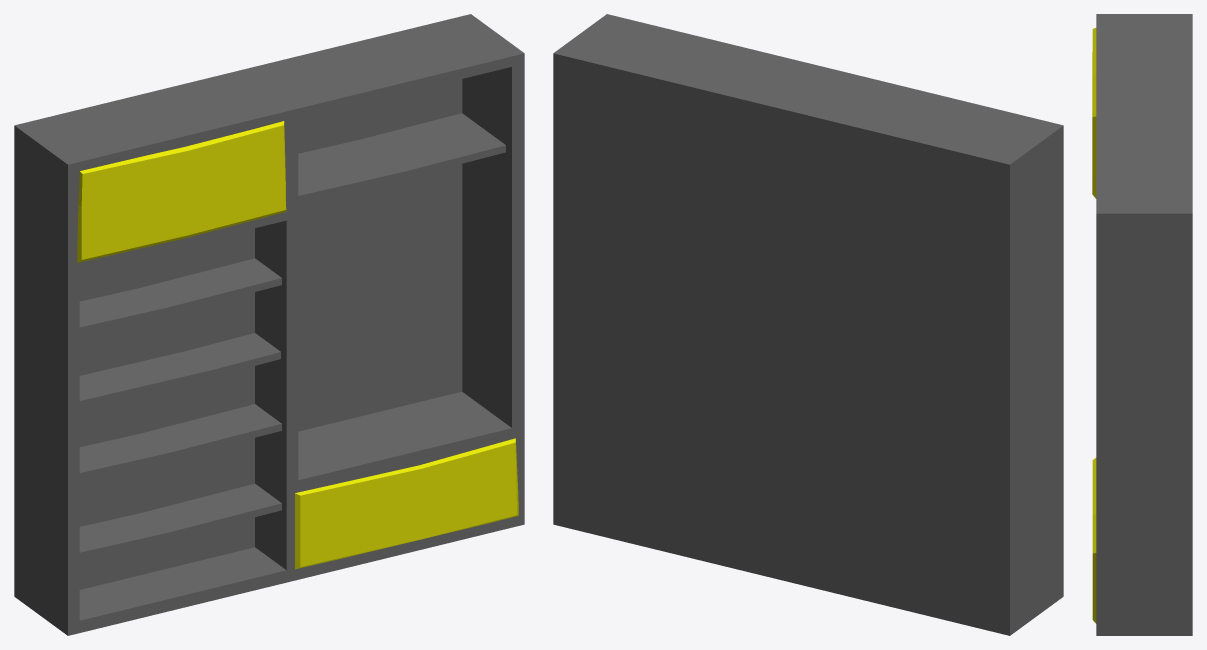
The model's file is Laundry_Wardrobe.fbx.
3 views of the same model, side by side, from view 1: azimuth 30°, elevation 25°; view 2: azimuth 150°, elevation 25°; view 3: azimuth 270°, elevation 25° (orthographic). The views are drawn at different scales.
Parts seen in each view (by area): view 1: Laundry_Wardrobe; view 2: Laundry_Wardrobe; view 3: Laundry_Wardrobe.
Boxes of the visible parts, x1=… form: Laundry_Wardrobe: x1=14, y1=14, x2=524, y2=635; Laundry_Wardrobe: x1=553, y1=14, x2=1063, y2=635; Laundry_Wardrobe: x1=1092, y1=14, x2=1192, y2=635.
Size of the model in its own units: 357 by 352 by 76.08.
